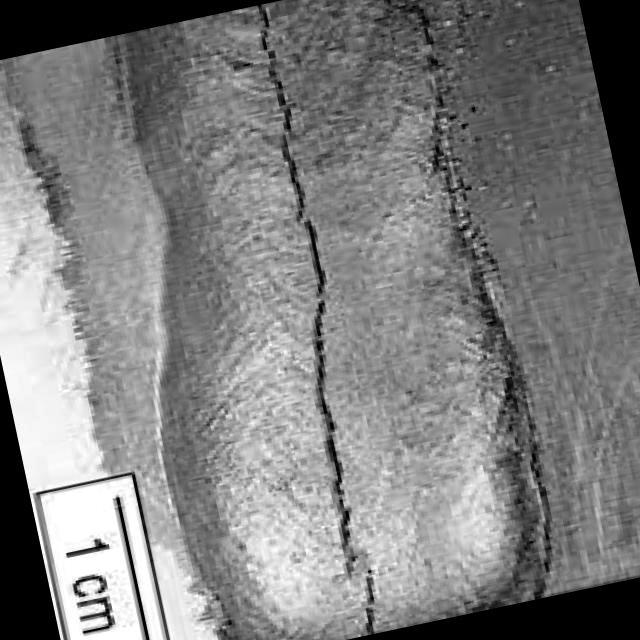defect: (250, 6, 388, 635)
